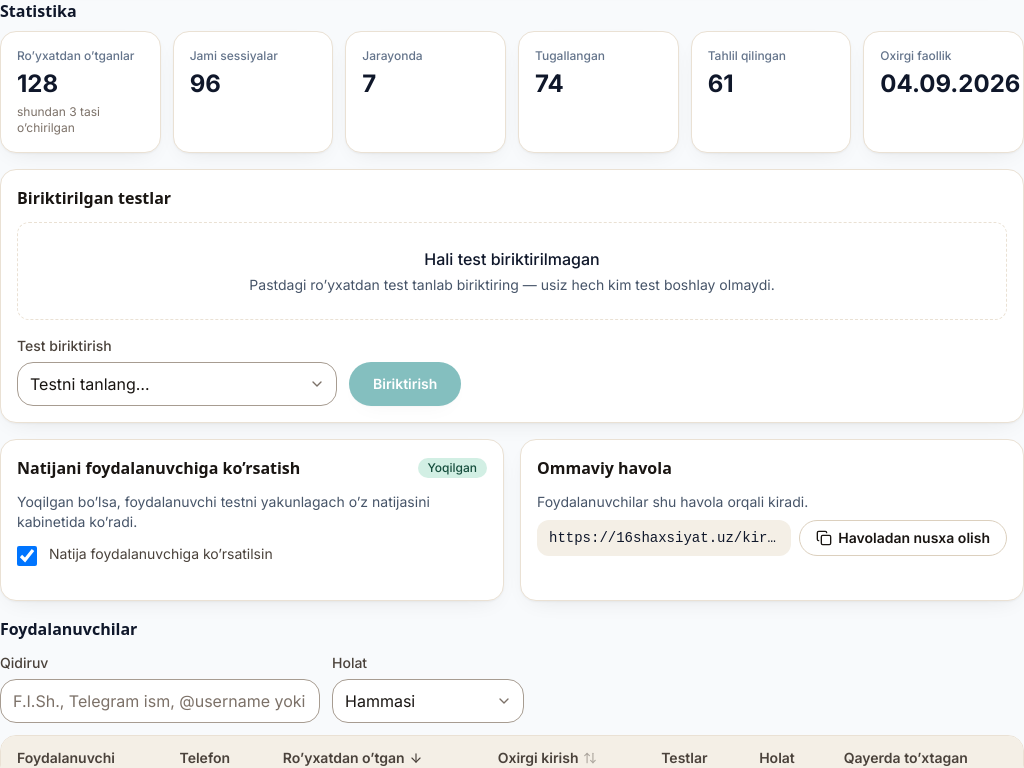
PublicSpacePage › test biriktiriladi (POST tests/{testId}) va yangilangan holat keshga yoziladi
(page scrolled)
Expected: the text "Hali test biriktirilmagan" is shown, [424, 249, 600, 269]
Select "PERSONALITY_PROFILE — Shaxsiyat profili" in the dropdown labelled "Test biriktirish": (177, 384) [17, 362, 337, 406]
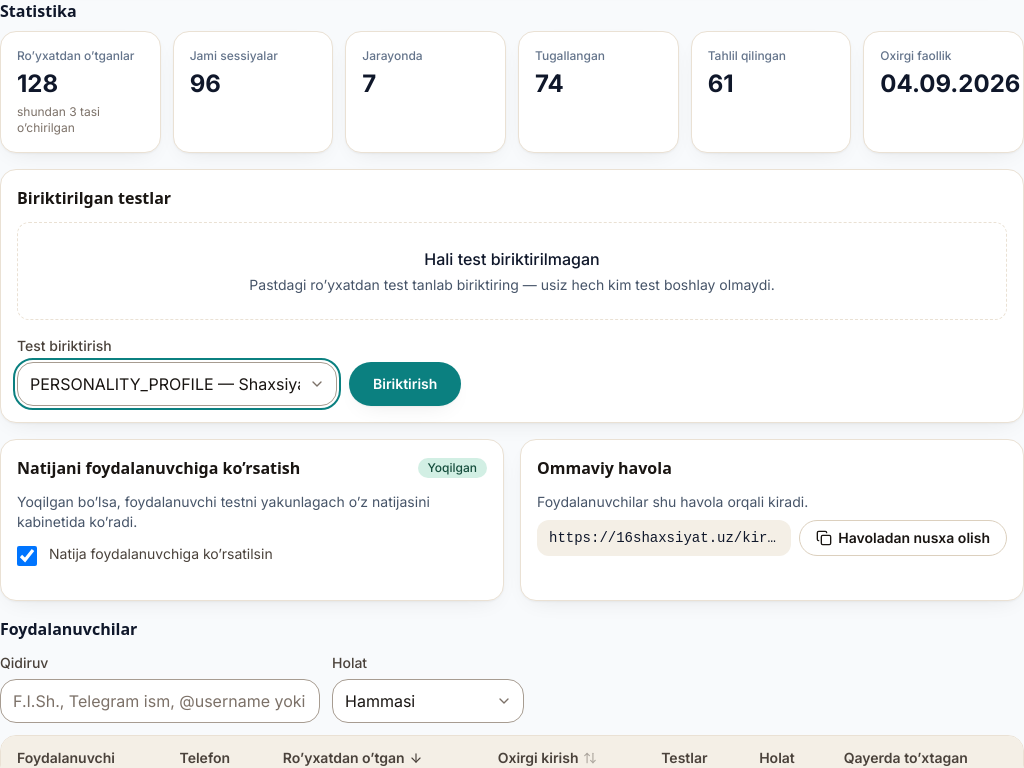
Click the button "Biriktirish": (405, 384) [349, 362, 461, 406]
(page scrolled)
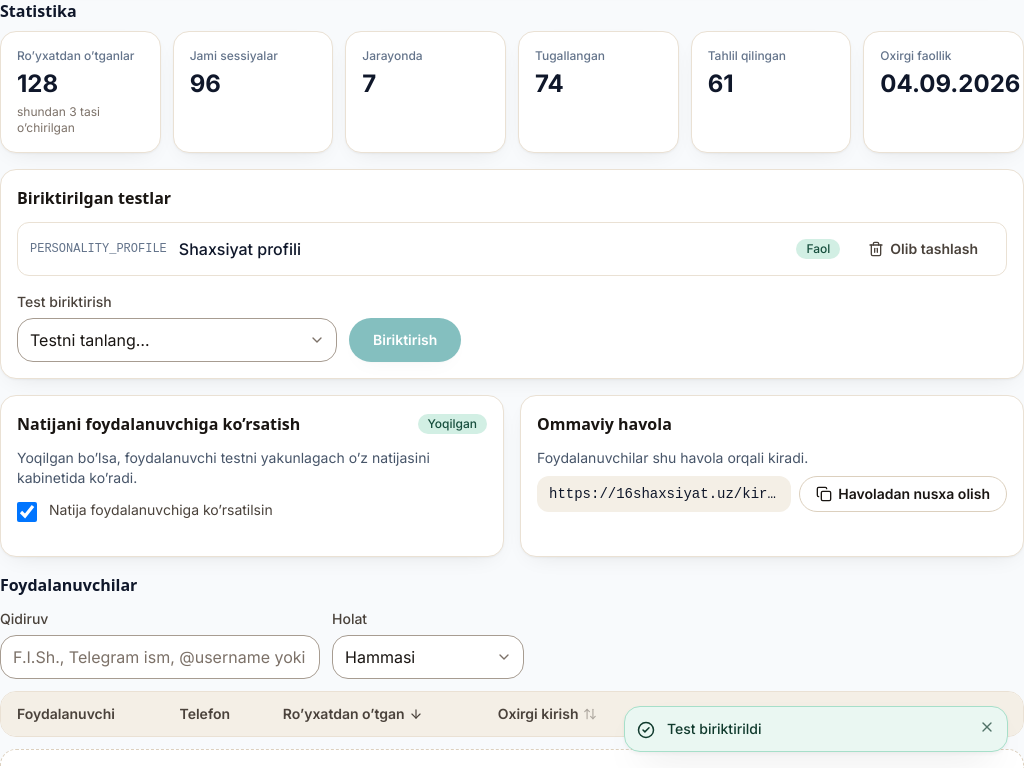
Expected: the text "Test biriktirildi" is shown, [667, 720, 761, 737]
Expected: the text "Shaxsiyat profili" is shown, [179, 239, 301, 259]
